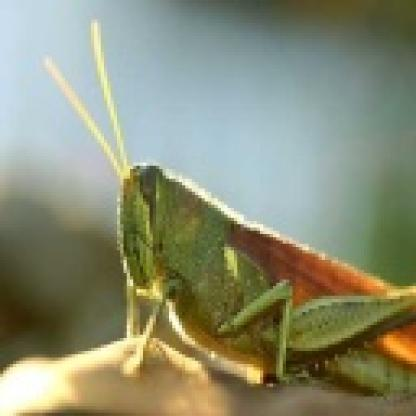grasshopper: (80, 123, 416, 405)
